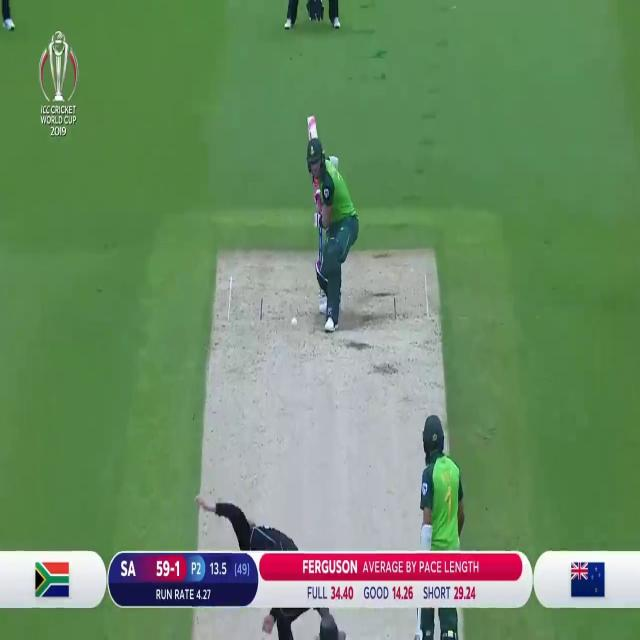ball: (288, 308, 300, 337)
